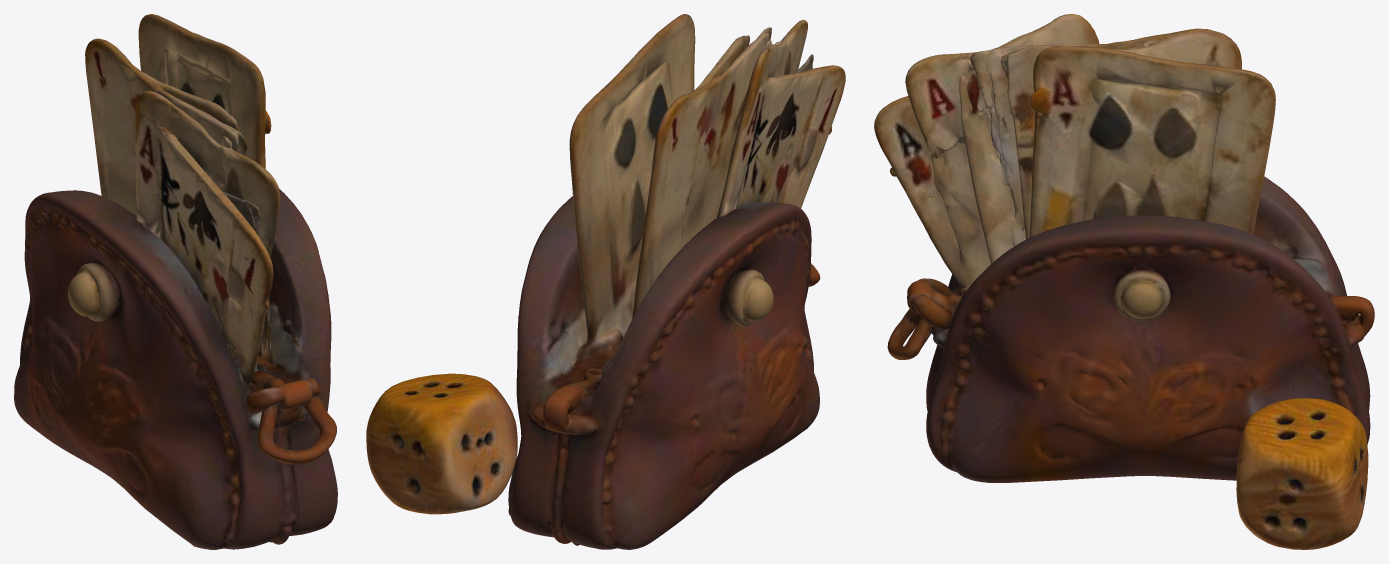
Rendered from 扑克牌.glb.
The picture shows the model from 3 angles, left to right: view 1: azimuth 30°, elevation 25°; view 2: azimuth 150°, elevation 25°; view 3: azimuth 270°, elevation 25°; orthographic projection. The views are drawn at different scales.
Visible parts, largest first — view 1: tripo_node_ff683de6-ce9c-4e3e-8f4f-2c9178d30041; view 2: tripo_node_ff683de6-ce9c-4e3e-8f4f-2c9178d30041; view 3: tripo_node_ff683de6-ce9c-4e3e-8f4f-2c9178d30041.
Boxes of the visible parts, box(x1,y1,x2,y2) form: tripo_node_ff683de6-ce9c-4e3e-8f4f-2c9178d30041: box(14, 14, 337, 549); tripo_node_ff683de6-ce9c-4e3e-8f4f-2c9178d30041: box(366, 14, 845, 549); tripo_node_ff683de6-ce9c-4e3e-8f4f-2c9178d30041: box(874, 14, 1374, 549).
Size of the model in its own units: 0.7128 by 0.9453 by 1.
1 material, 1 textured.
